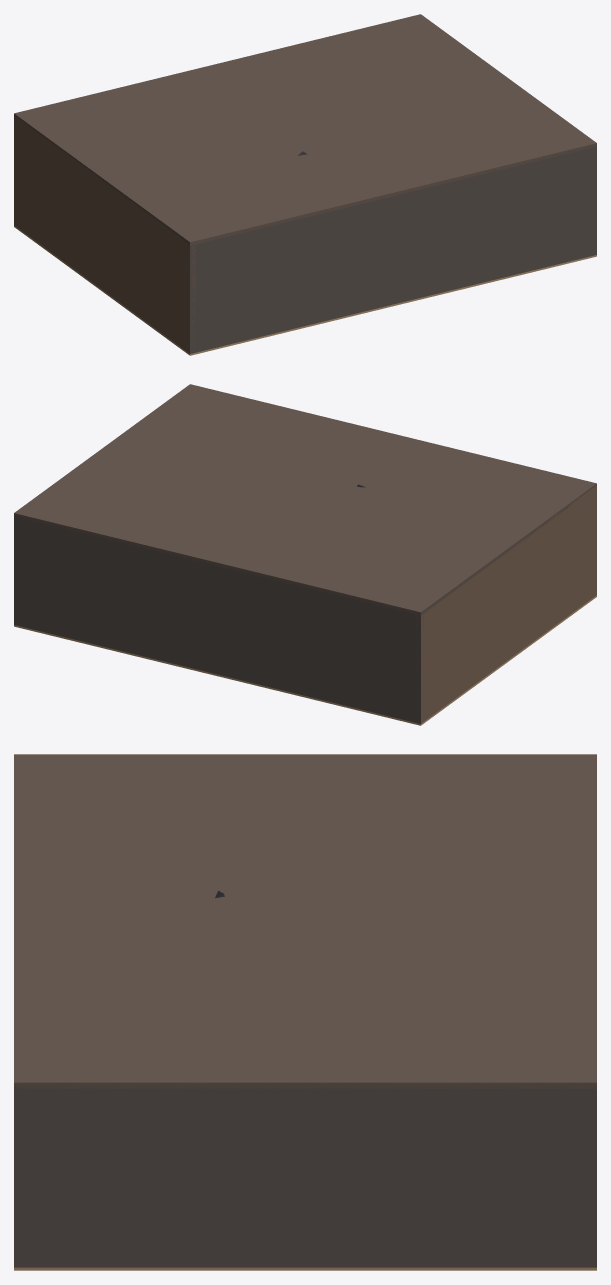
File: cineplex-concourse-lobby-v1-world.glb
3 renders of one model, top to bottom at view 1: azimuth 30°, elevation 25°; view 2: azimuth 150°, elevation 25°; view 3: azimuth 270°, elevation 25°, orthographic. The views are drawn at different scales.
Visible parts, largest first — view 1: Ceiling_Main, Wall_Back_Concourse, Wall_Left_Concourse, Floor_Concourse; view 2: Ceiling_Main, Wall_Front_Concourse, Wall_Left_Concourse, Floor_Concourse; view 3: Ceiling_Main, Wall_Right_Concourse, Floor_Concourse, Wall_Back_Concourse, Wall_Front_Concourse.
Part boxes in pixels (x1,y1,x2,y2): Ceiling_Main: (14,14,596,245); Wall_Back_Concourse: (187,145,596,353); Wall_Left_Concourse: (14,115,195,353); Floor_Concourse: (14,225,596,355); Ceiling_Main: (14,384,596,615); Wall_Front_Concourse: (14,515,423,723); Wall_Left_Concourse: (415,485,596,723); Floor_Concourse: (14,595,596,725); Ceiling_Main: (14,754,596,1088); Wall_Right_Concourse: (14,1085,596,1267); Floor_Concourse: (14,1267,596,1270); Wall_Back_Concourse: (14,1086,23,1266); Wall_Front_Concourse: (587,1085,596,1267).
Bounding box in the file's own units: 24 × 6.5 × 18.
